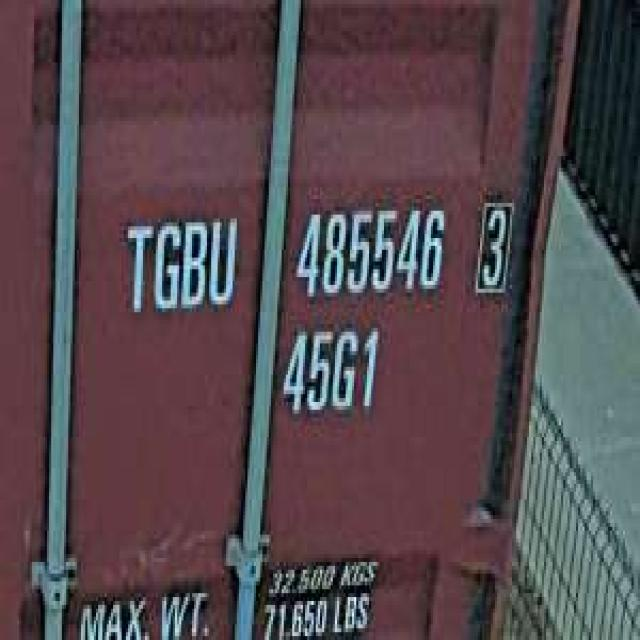dv: (469, 188, 516, 304)
owner: (117, 203, 241, 328)
serial: (288, 195, 450, 305)
size: (277, 316, 382, 425)
